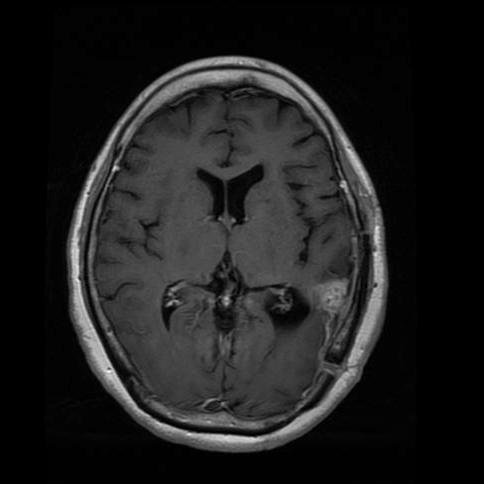Tumour-Glioma: (301, 271, 364, 322)
